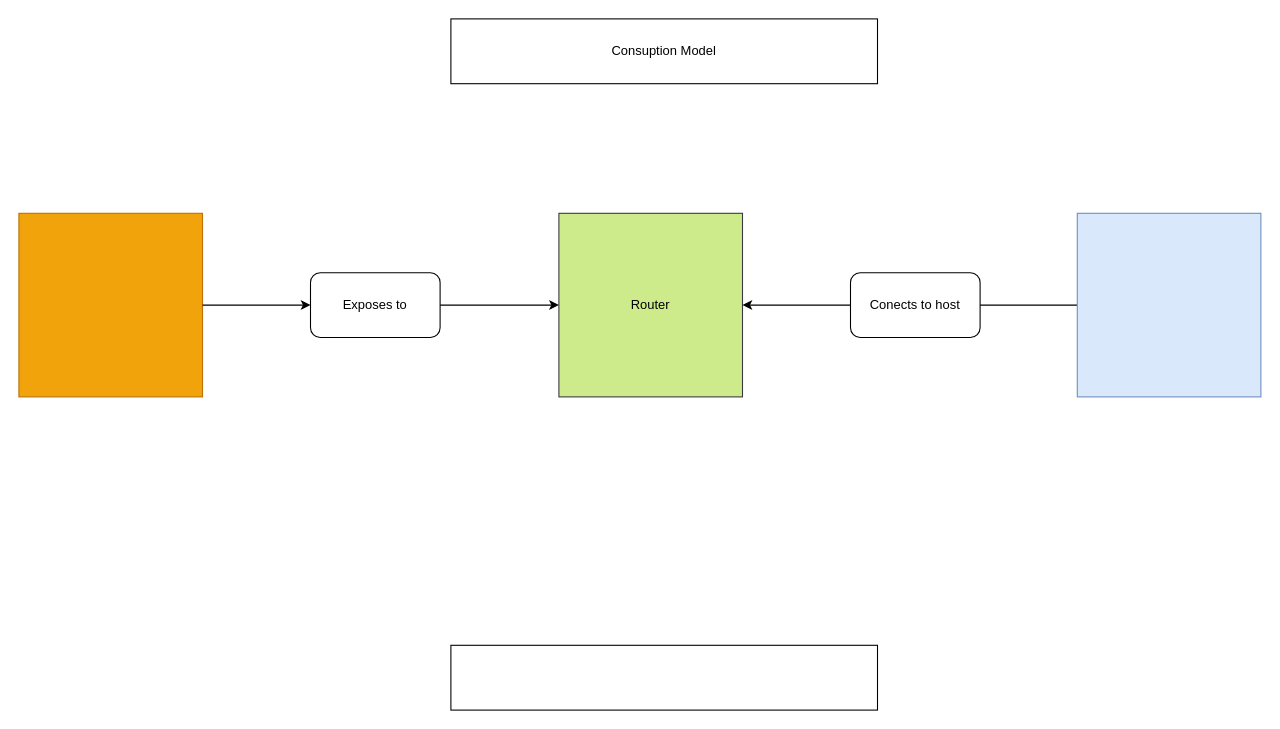
Image size: 1280x729. Some labels were removed from this diagram. The box of each missing label's shape, as (x1, y1, x2, y2) in pixels:
Consumer Smartphone: (1076, 212, 1261, 397)
Host Machine: (18, 212, 202, 397)
